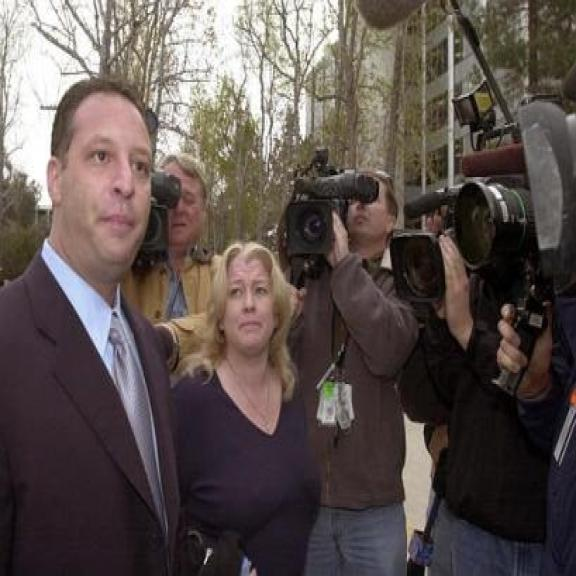face: (42, 92, 154, 273), (222, 252, 286, 358), (347, 171, 399, 245), (164, 162, 207, 250)
